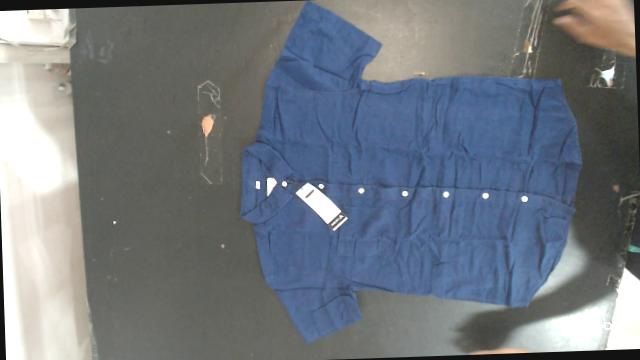new-garment: (241, 1, 582, 342)
